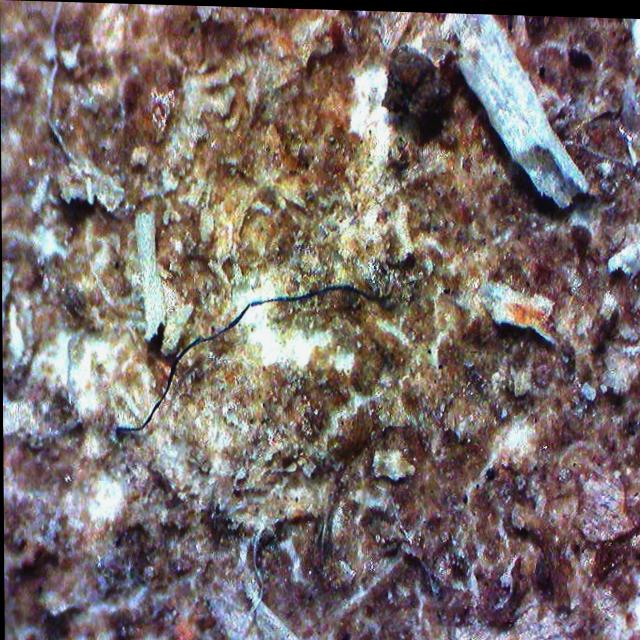microplastic: (91, 246, 395, 439)
